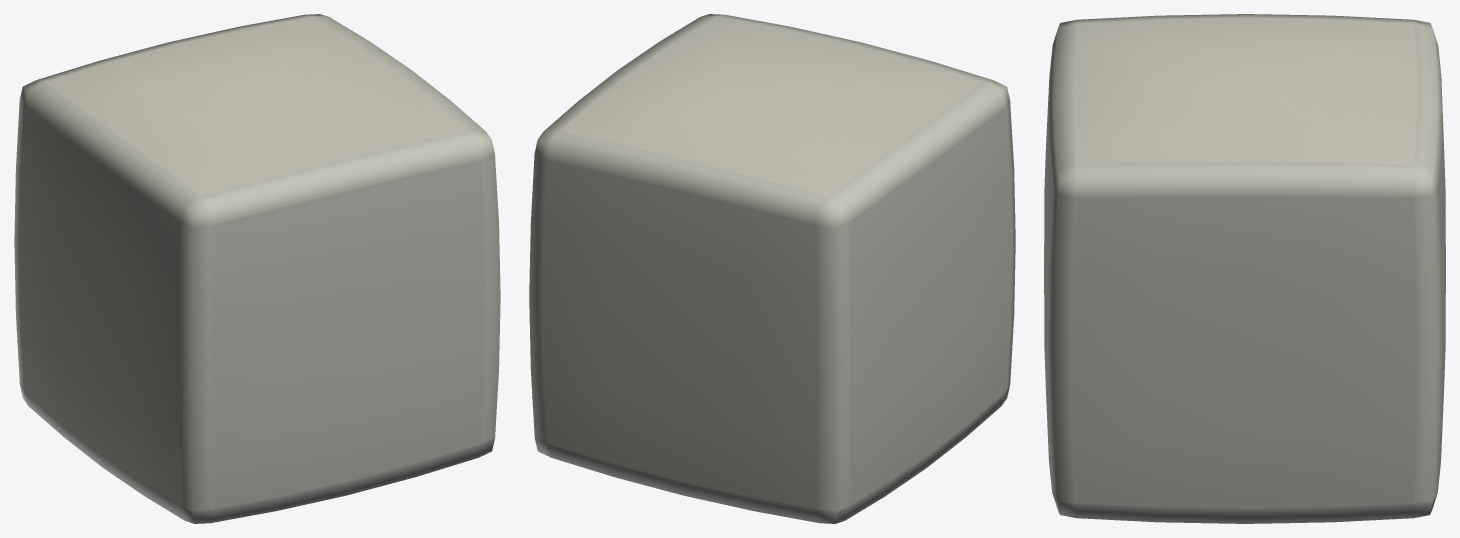
The model's file is block_stone2_3_LOD_setup.fbx.
3 views of the same model, side by side, from view 1: azimuth 30°, elevation 25°; view 2: azimuth 150°, elevation 25°; view 3: azimuth 270°, elevation 25° (orthographic). The views are drawn at different scales.
Parts seen in each view (by area): view 1: block_stone2_3_LOD0; view 2: block_stone2_3_LOD0; view 3: block_stone2_3_LOD0.
Boxes of the visible parts, x1,y1,x2,y2 form: block_stone2_3_LOD0: [14, 14, 500, 523]; block_stone2_3_LOD0: [529, 14, 1015, 523]; block_stone2_3_LOD0: [1044, 14, 1445, 523].
Size of what is drawn, in the model's own units: 109 by 109 by 109.
